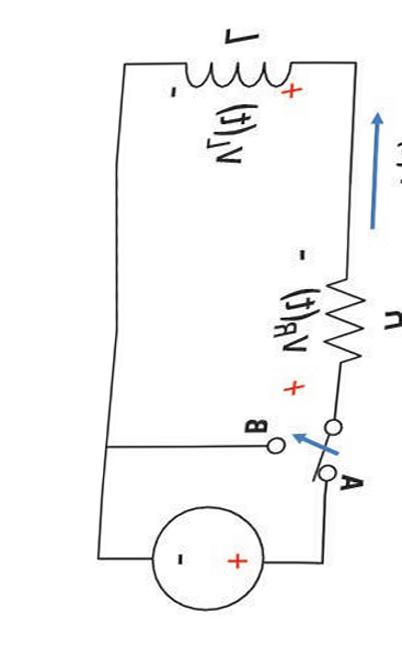Battery: (135, 491, 284, 628)
